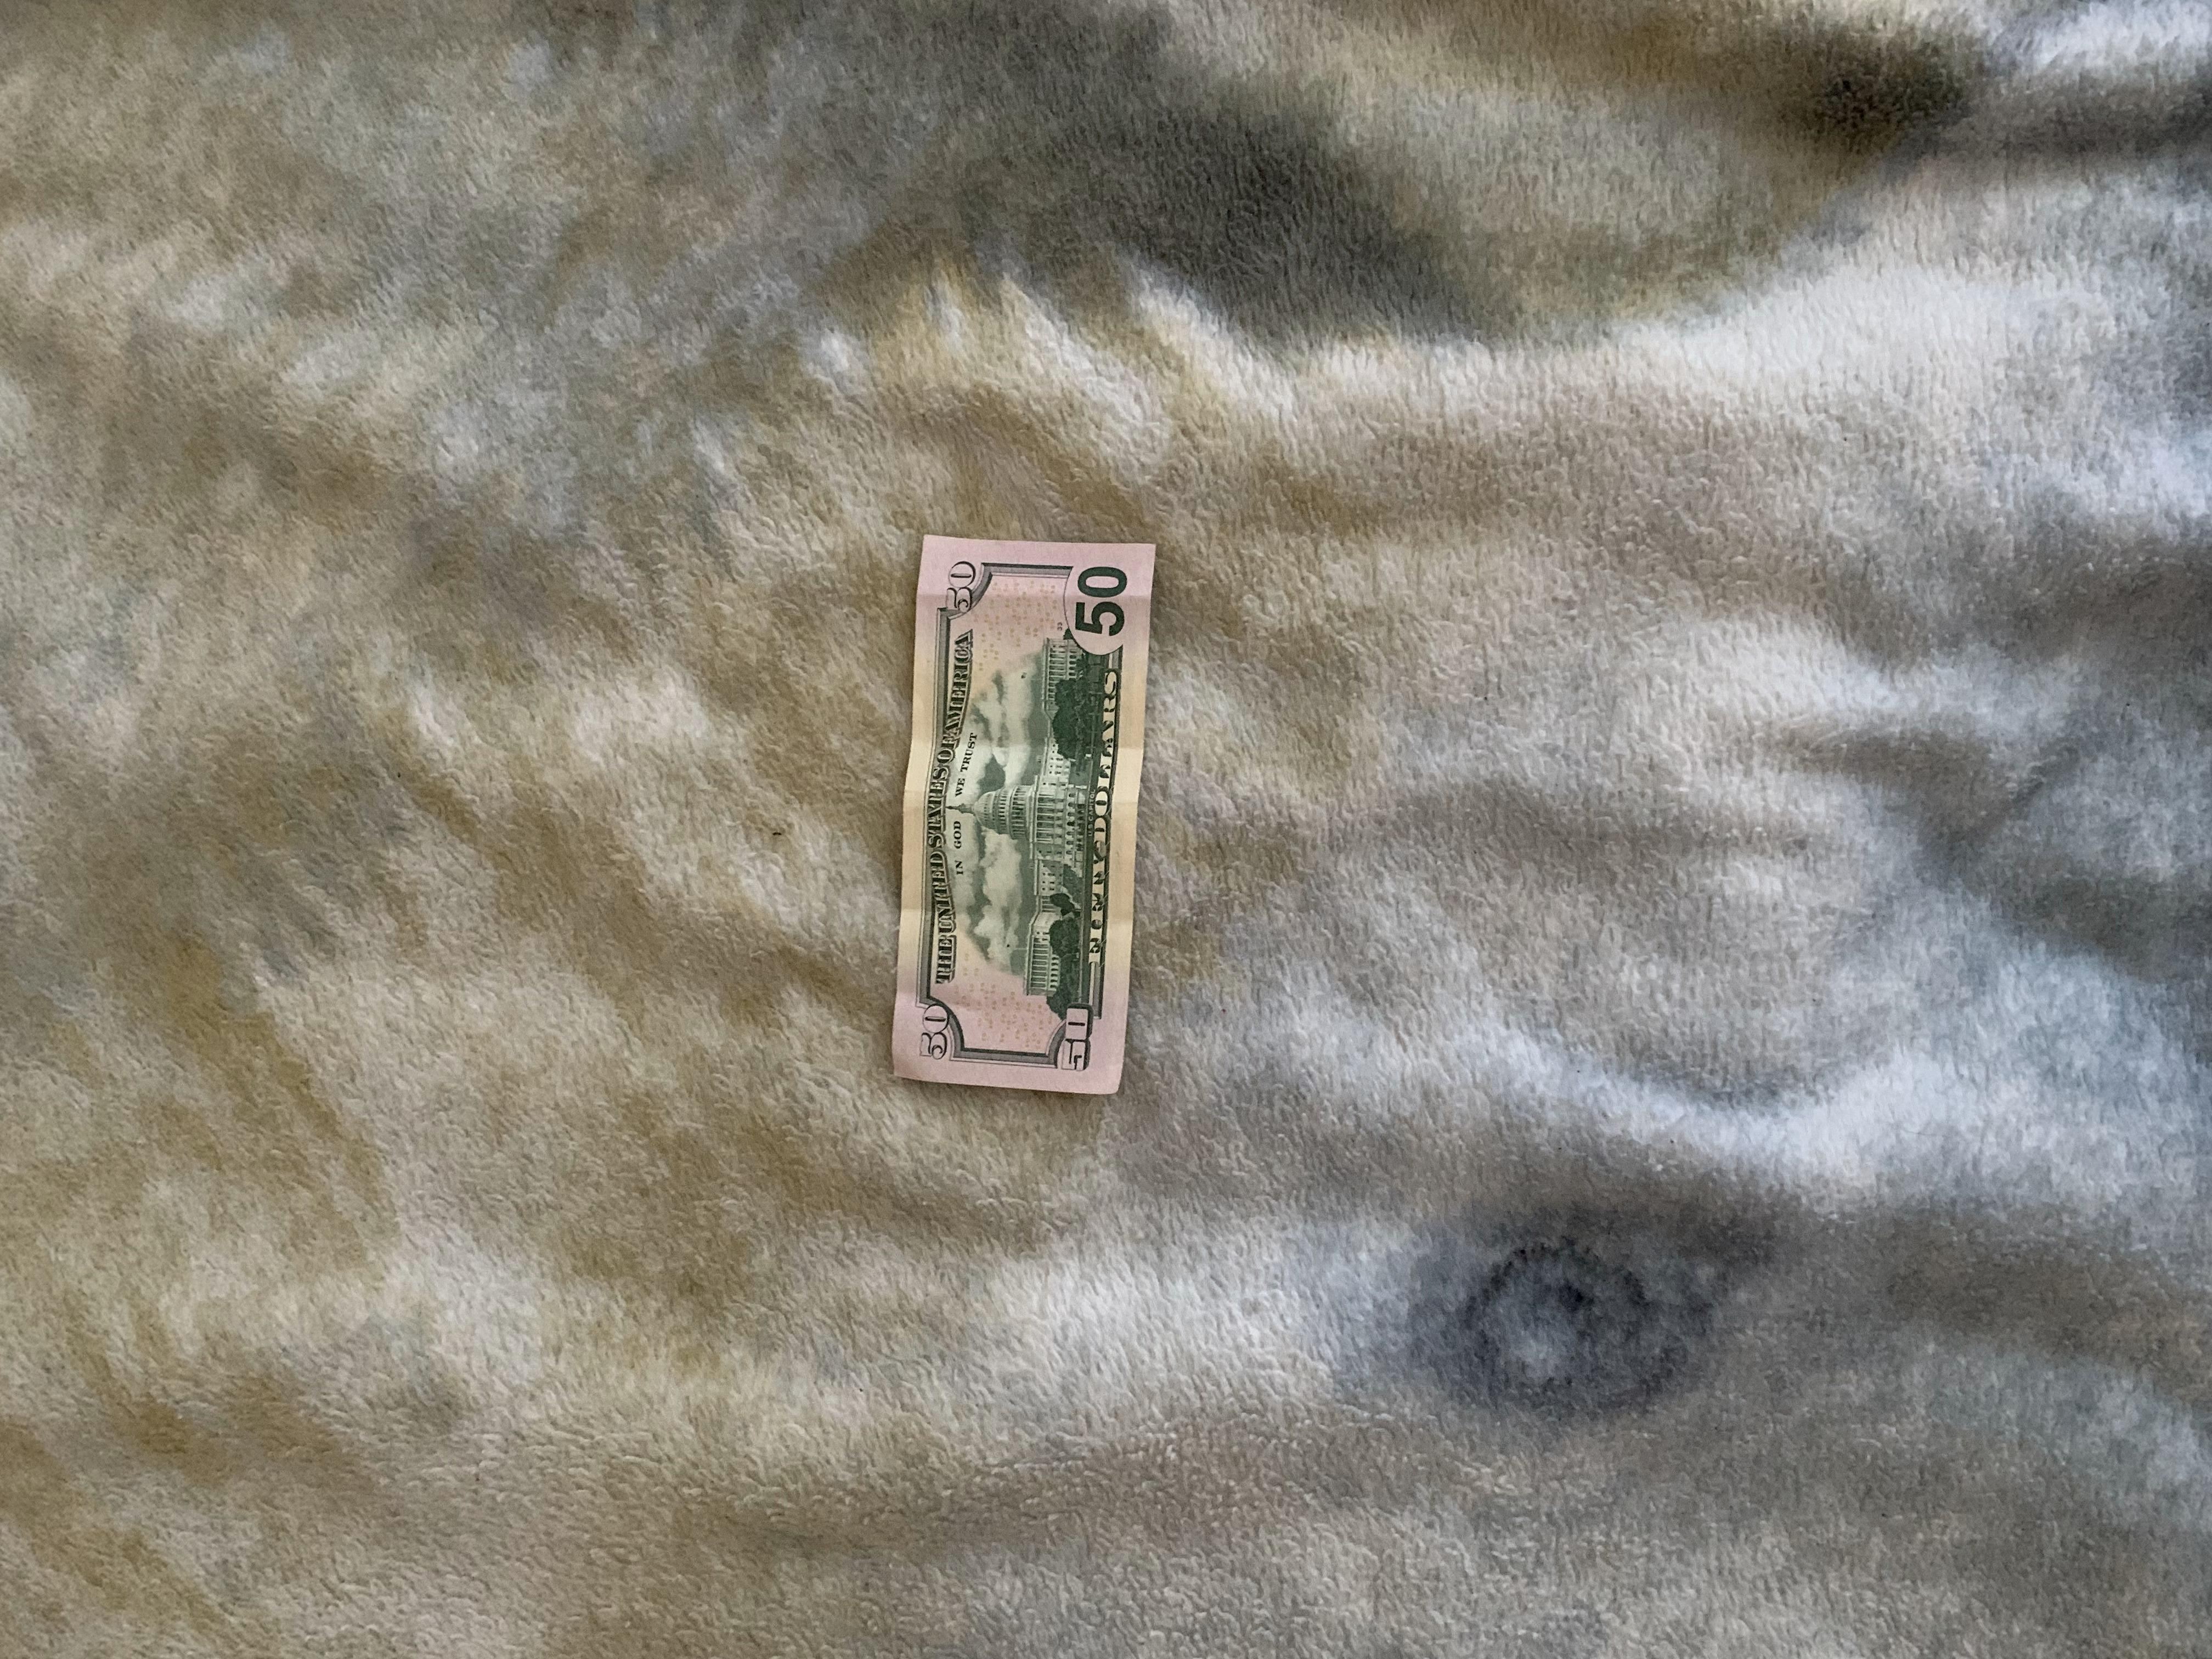FiftyBill: (890, 533, 1163, 1098)
